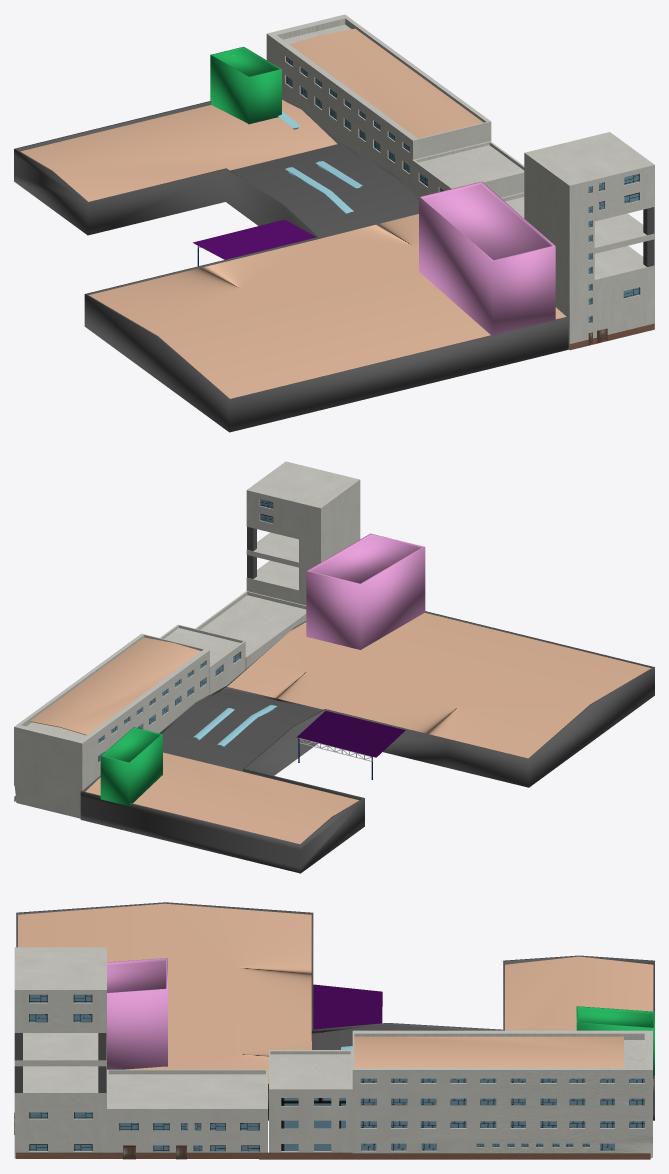
The model's file is 兽药楼.fbx.
3 renders of one model, top to bottom at view 1: azimuth 30°, elevation 25°; view 2: azimuth 150°, elevation 25°; view 3: azimuth 270°, elevation 25°, orthographic. The views are drawn at different scales.
Parts seen in each view (by area): view 1: 对象003, Box008, Box004, 对象001, Box010, Box003, 对象002, 对象009, Box009, Box002, 棚, Box012; view 2: 对象003, Box008, Box003, Box004, Box010, 对象001, 对象002, 对象009, Box001, Box009, 棚, Box002; view 3: 对象003, Box003, Box004, Box001, 对象001, Box002, 对象009, Box010, 棚, Box006, Box008, Box009 (+4 smaller).
Boxes of the visible parts, x1,y1,x2,y2 form: 对象003: [89, 214, 566, 398]; Box008: [14, 97, 568, 432]; Box004: [524, 132, 654, 349]; 对象001: [20, 100, 337, 201]; Box010: [419, 181, 555, 335]; Box003: [266, 14, 491, 190]; 对象002: [230, 144, 418, 238]; 对象009: [290, 28, 483, 138]; Box009: [210, 46, 281, 124]; Box002: [412, 141, 524, 197]; 棚: [193, 219, 316, 259]; Box012: [643, 207, 654, 266]; 对象003: [227, 613, 651, 758]; Box008: [80, 611, 654, 873]; Box003: [14, 633, 209, 818]; Box004: [246, 461, 360, 605]; Box010: [306, 533, 425, 649]; 对象001: [85, 752, 358, 843]; 对象002: [162, 688, 320, 771]; 对象009: [29, 637, 200, 735]; Box001: [195, 591, 306, 668]; Box009: [100, 727, 162, 806]; 棚: [297, 711, 405, 757]; Box002: [160, 624, 245, 694]; 对象003: [18, 903, 311, 1083]; Box003: [352, 1030, 652, 1157]; Box004: [14, 947, 106, 1158]; Box001: [106, 1069, 267, 1159]; 对象001: [505, 956, 653, 1085]; Box002: [269, 1050, 352, 1152]; 对象009: [354, 1036, 623, 1067]; Box010: [107, 958, 167, 1069]; 棚: [312, 984, 382, 1032]; Box006: [259, 1153, 650, 1159]; Box008: [16, 902, 654, 1120]; Box009: [576, 1006, 654, 1078].
Size of the model in its own units: 102 by 38.21 by 129.
